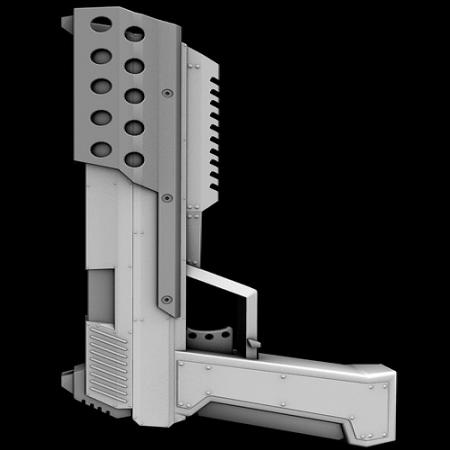Pistol: (59, 6, 395, 448)
